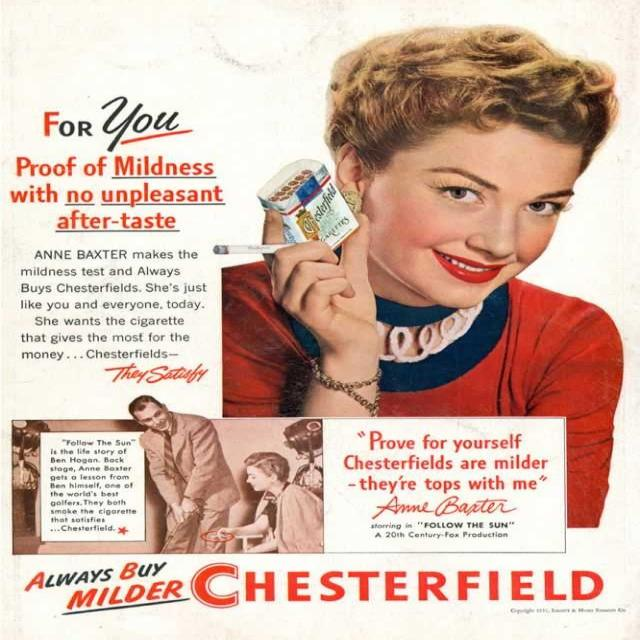Smooking: (210, 234, 306, 260)
